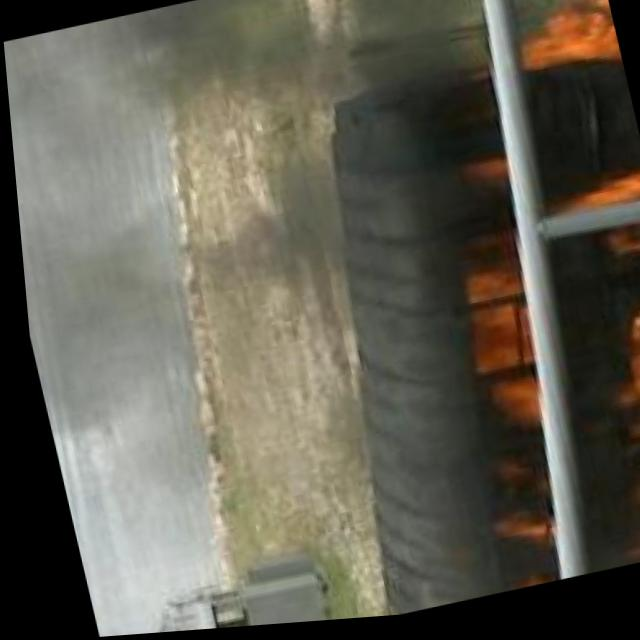Fire: (440, 233, 541, 439), (575, 296, 640, 573), (467, 448, 551, 599), (508, 0, 623, 95), (540, 172, 640, 281)
